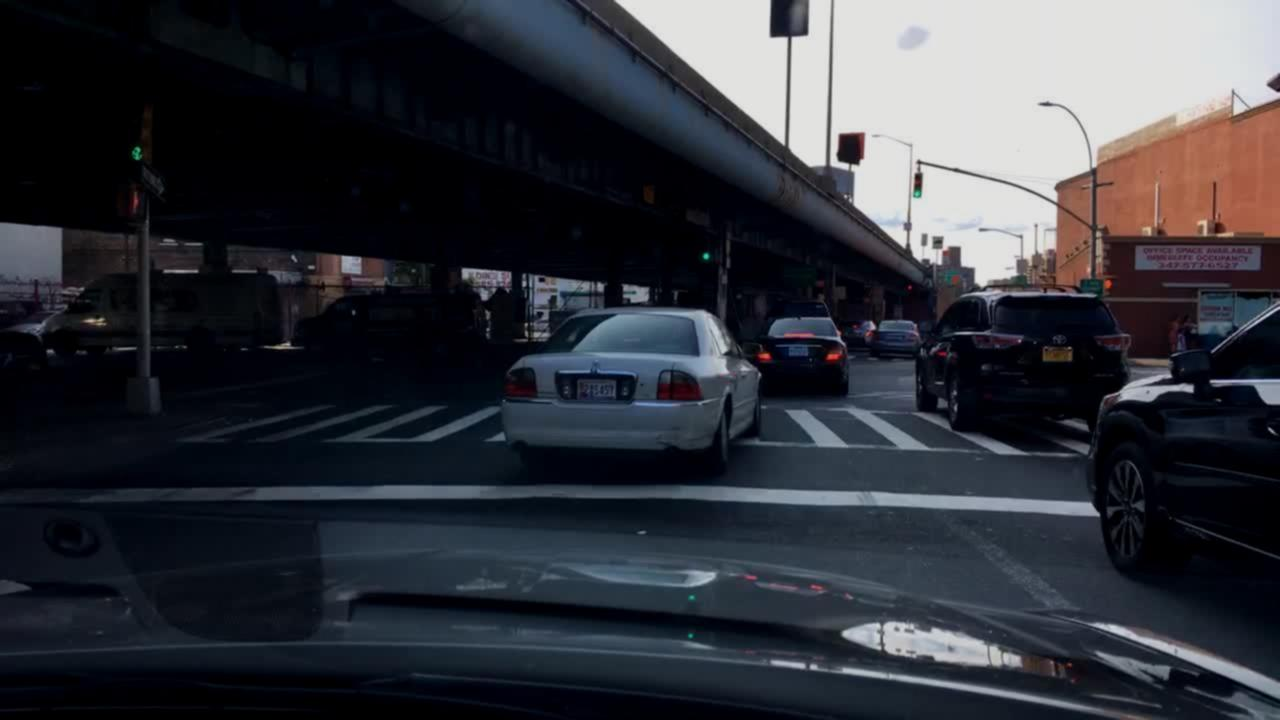Toyota: (1049, 332, 1069, 348)
lincoln: (587, 357, 602, 378)
